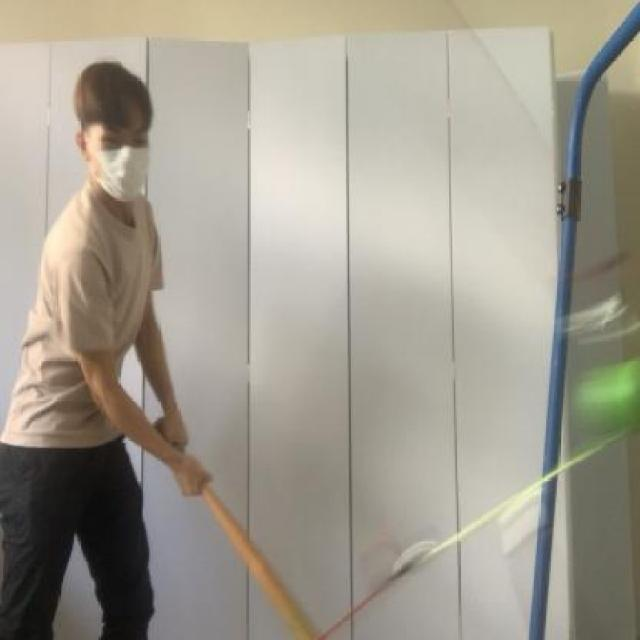baseball: (564, 350, 640, 424)
